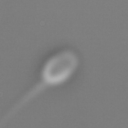normal: (1, 80, 44, 128)
